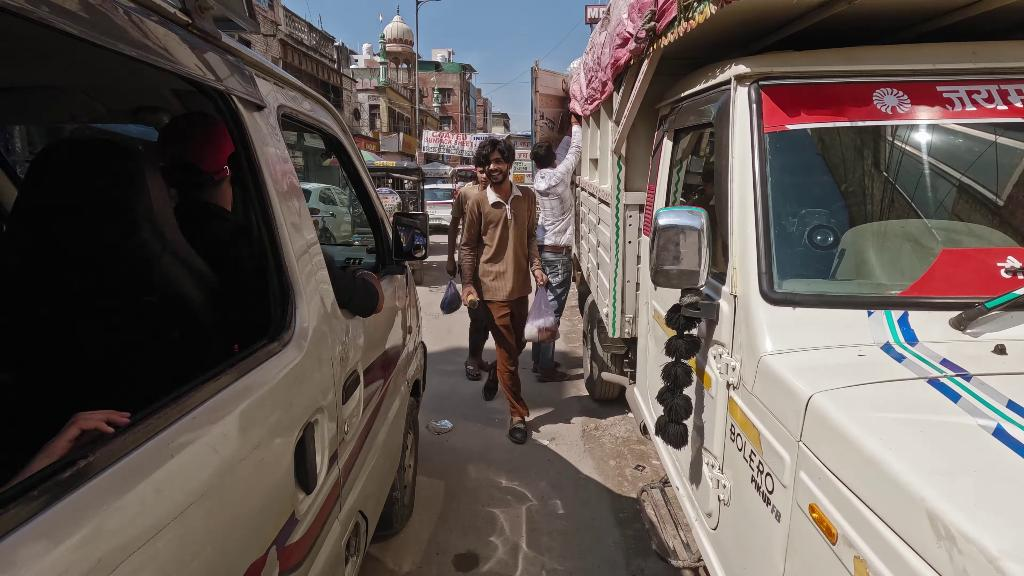garbage: (425, 417, 453, 433)
